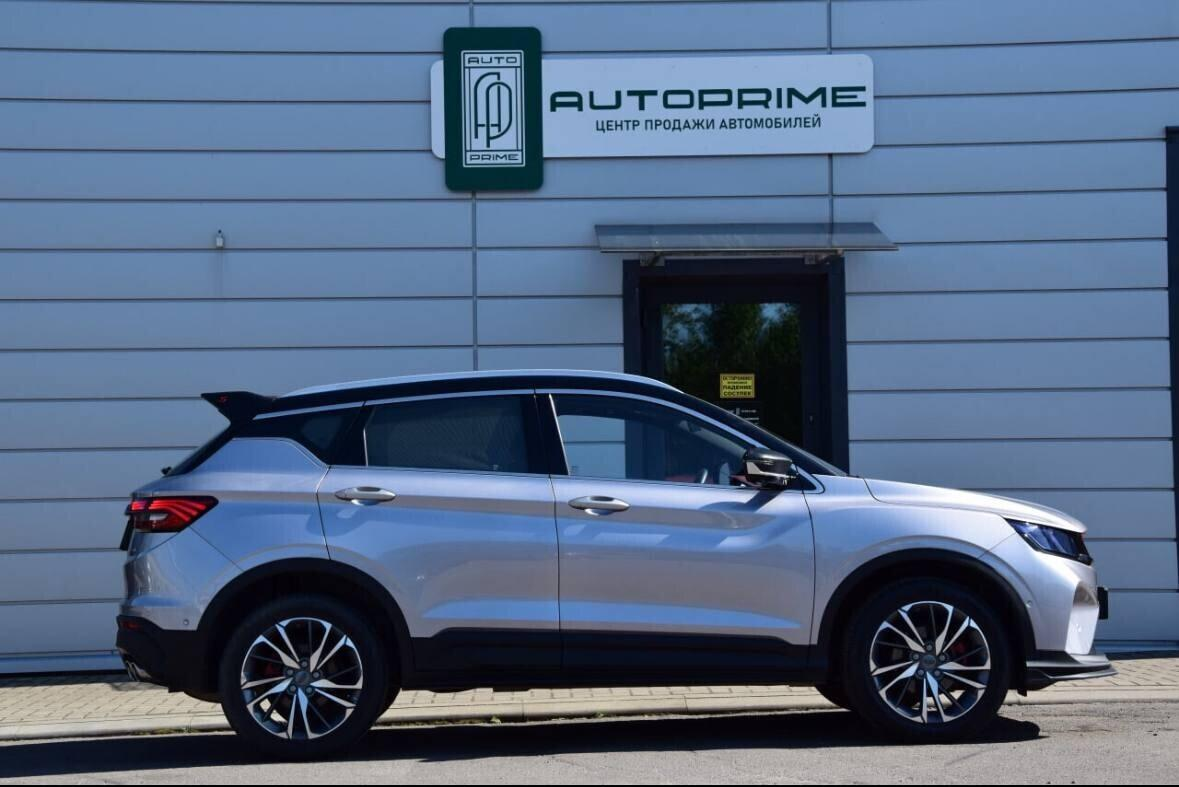Coolray_2019-2023: (110, 370, 1119, 756)
